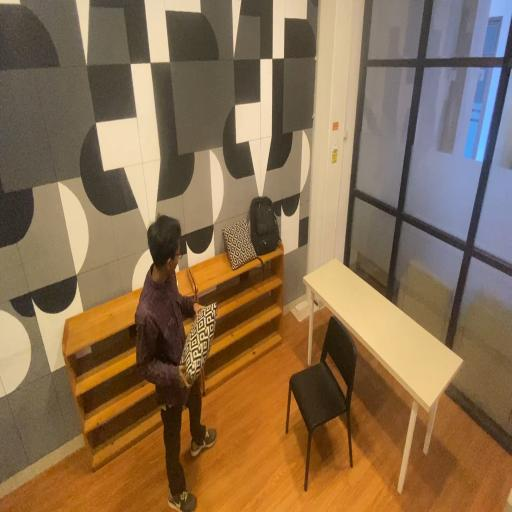bantal: (179, 298, 219, 396), (220, 209, 260, 276)
kursi: (286, 312, 356, 497)
lemari: (59, 254, 198, 482), (187, 228, 285, 400)
meja: (301, 252, 466, 502)
tas ransel: (250, 193, 282, 260)
